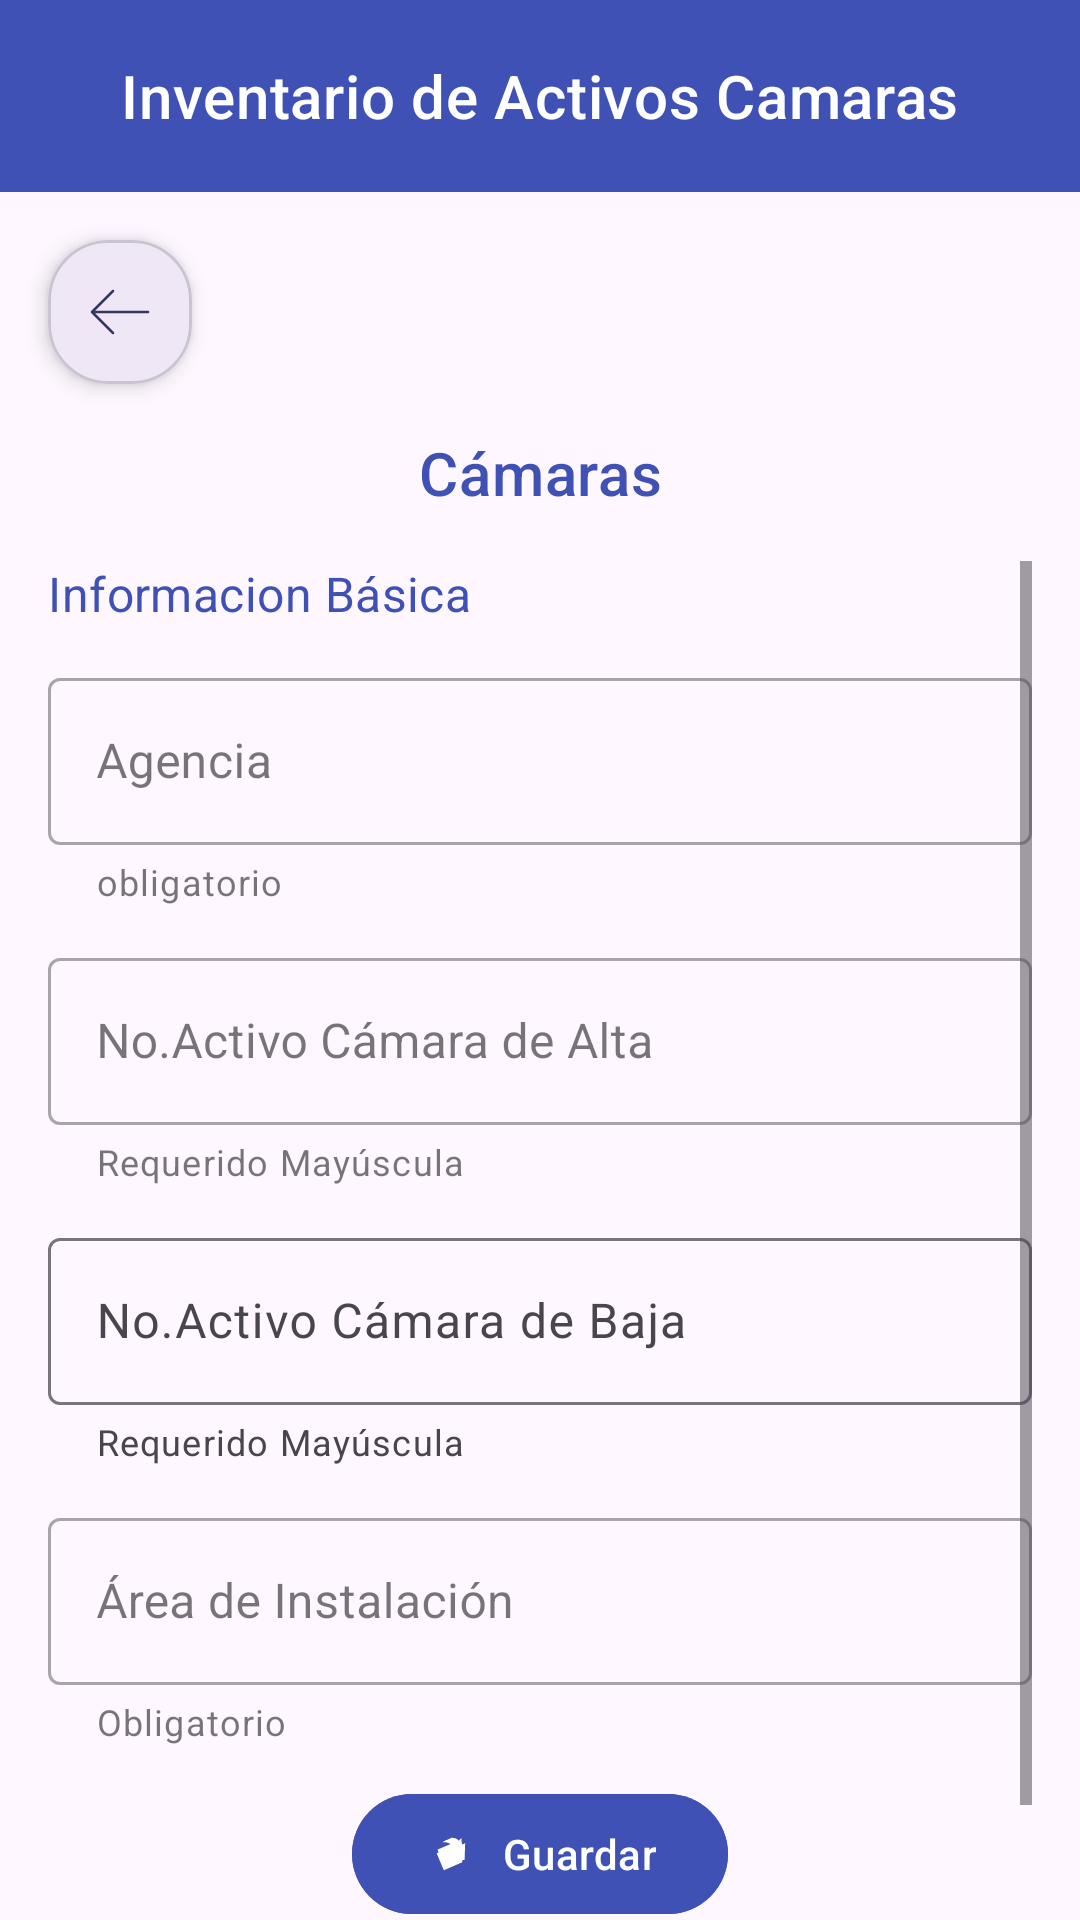

Icon click points for this 1080px×1920px phone screenshot, format [x,y]:
Regresar: [120,312]
